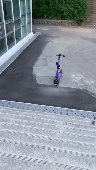beam: (53, 52, 65, 87)
